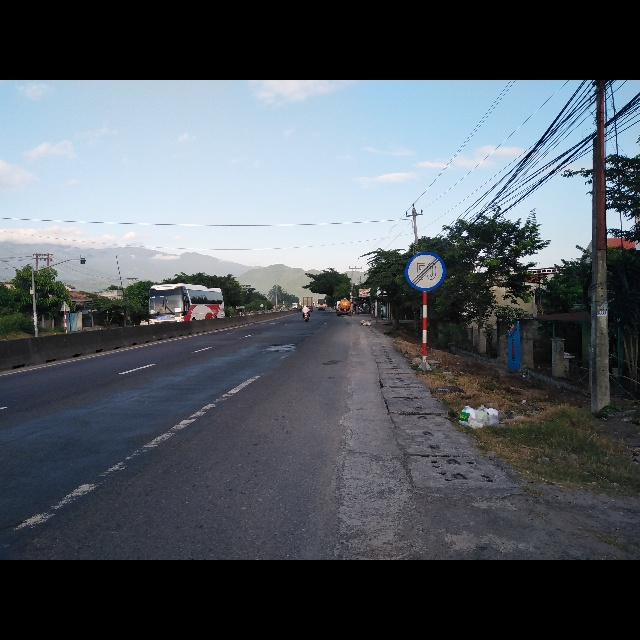Hết hạn chế tốc độ tối đa 50km/h: (403, 249, 447, 292)
